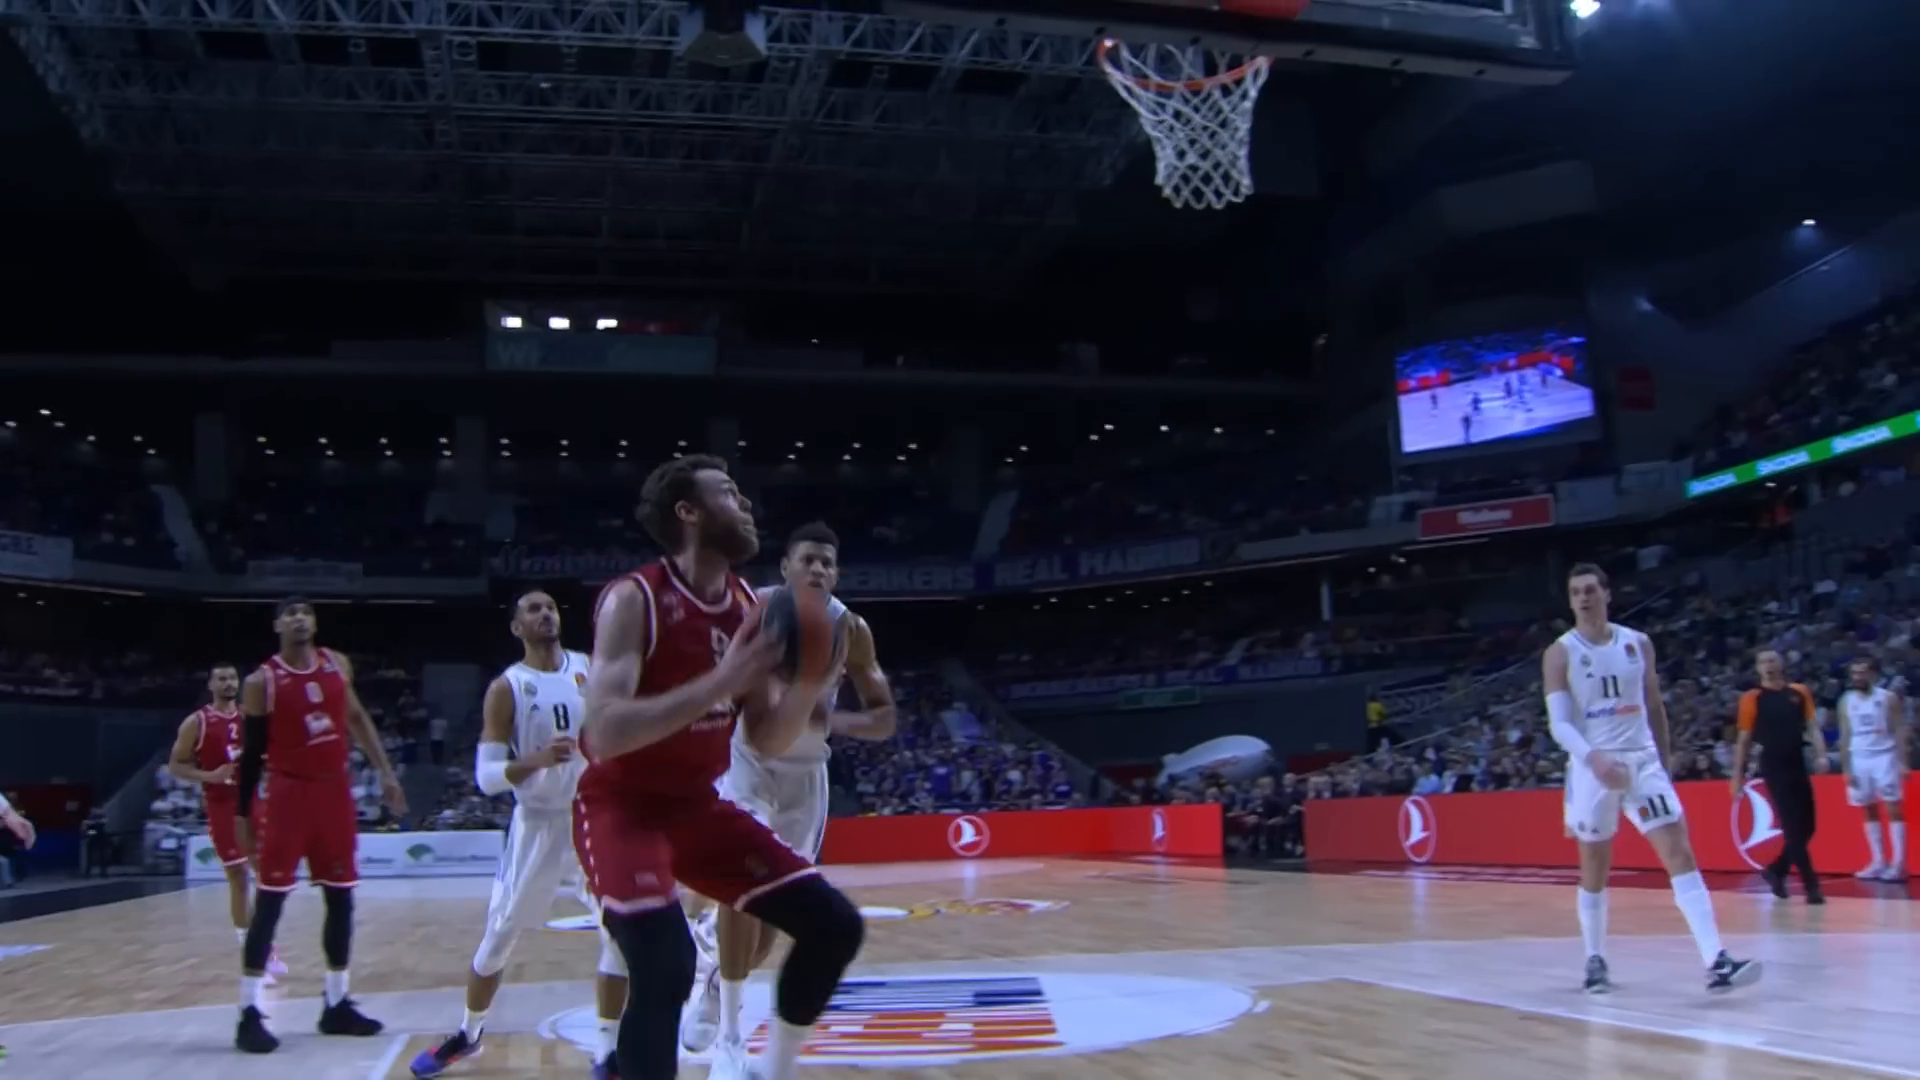ball: (741, 583, 858, 687)
net: (1091, 33, 1279, 214)
